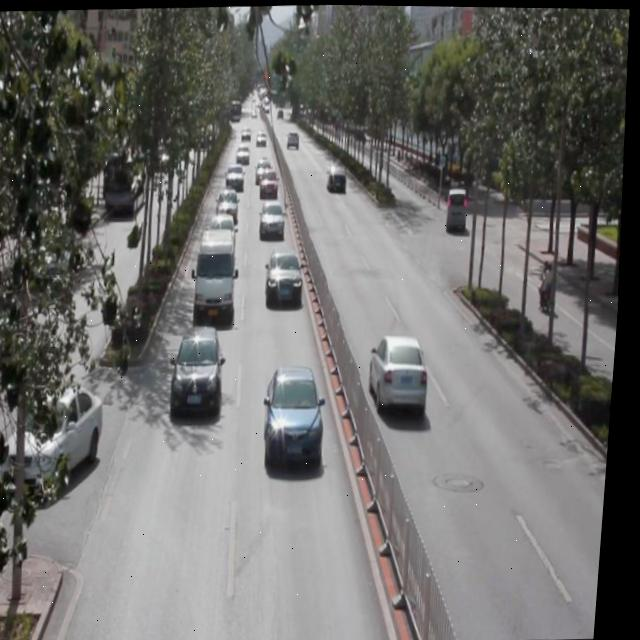car: (266, 366, 335, 470), (370, 332, 434, 414), (175, 326, 230, 415), (266, 250, 308, 310), (260, 200, 289, 240), (213, 213, 239, 250), (218, 189, 242, 222), (260, 167, 282, 198), (327, 163, 347, 193), (227, 164, 247, 193), (257, 158, 274, 184)
truck: (195, 227, 242, 314)
